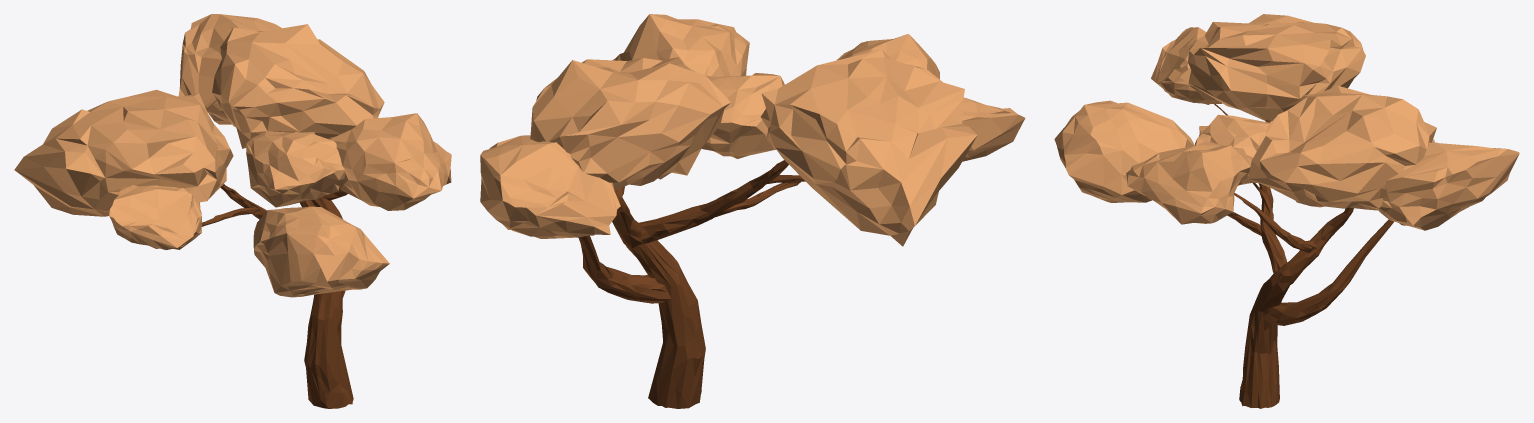
File: Arbre002.fbx
3 views of the same model, side by side, from view 1: azimuth 30°, elevation 25°; view 2: azimuth 150°, elevation 25°; view 3: azimuth 270°, elevation 25° (orthographic). The views are drawn at different scales.
Parts seen in each view (by area): view 1: Icosphere.041, Icosphere.047, Icosphere.043, Icosphere.046, Icosphere.045, BezierCurve.002, Icosphere.042, Icosphere.044; view 2: Icosphere.041, Icosphere.047, BezierCurve.002, Icosphere.044, Icosphere.046, Icosphere.045, Icosphere.042, Icosphere.043; view 3: Icosphere.047, Icosphere.041, BezierCurve.002, Icosphere.043, Icosphere.044, Icosphere.046, Icosphere.042, Icosphere.045.
Boxes of the visible parts, bbox=[...] form: Icosphere.041: bbox=[14, 89, 233, 216]; Icosphere.047: bbox=[212, 24, 384, 148]; Icosphere.043: bbox=[253, 206, 389, 297]; Icosphere.046: bbox=[329, 113, 451, 210]; Icosphere.045: bbox=[246, 131, 345, 207]; BezierCurve.002: bbox=[202, 184, 353, 408]; Icosphere.042: bbox=[109, 185, 202, 249]; Icosphere.044: bbox=[178, 14, 281, 124]; Icosphere.041: bbox=[760, 49, 977, 246]; Icosphere.047: bbox=[530, 57, 730, 190]; BezierCurve.002: bbox=[578, 160, 805, 408]; Icosphere.044: bbox=[480, 135, 620, 238]; Icosphere.046: bbox=[612, 14, 749, 76]; Icosphere.045: bbox=[701, 73, 784, 158]; Icosphere.042: bbox=[962, 97, 1025, 161]; Icosphere.043: bbox=[836, 34, 939, 79]; Icosphere.047: bbox=[1248, 85, 1436, 210]; Icosphere.041: bbox=[1180, 14, 1365, 121]; BezierCurve.002: bbox=[1214, 104, 1393, 408]; Icosphere.043: bbox=[1054, 100, 1194, 202]; Icosphere.044: bbox=[1378, 142, 1519, 230]; Icosphere.046: bbox=[1126, 141, 1250, 224]; Icosphere.042: bbox=[1151, 27, 1221, 104]; Icosphere.045: bbox=[1195, 114, 1270, 185].
Bounding box in the file's own units: 479 × 426 × 600.
